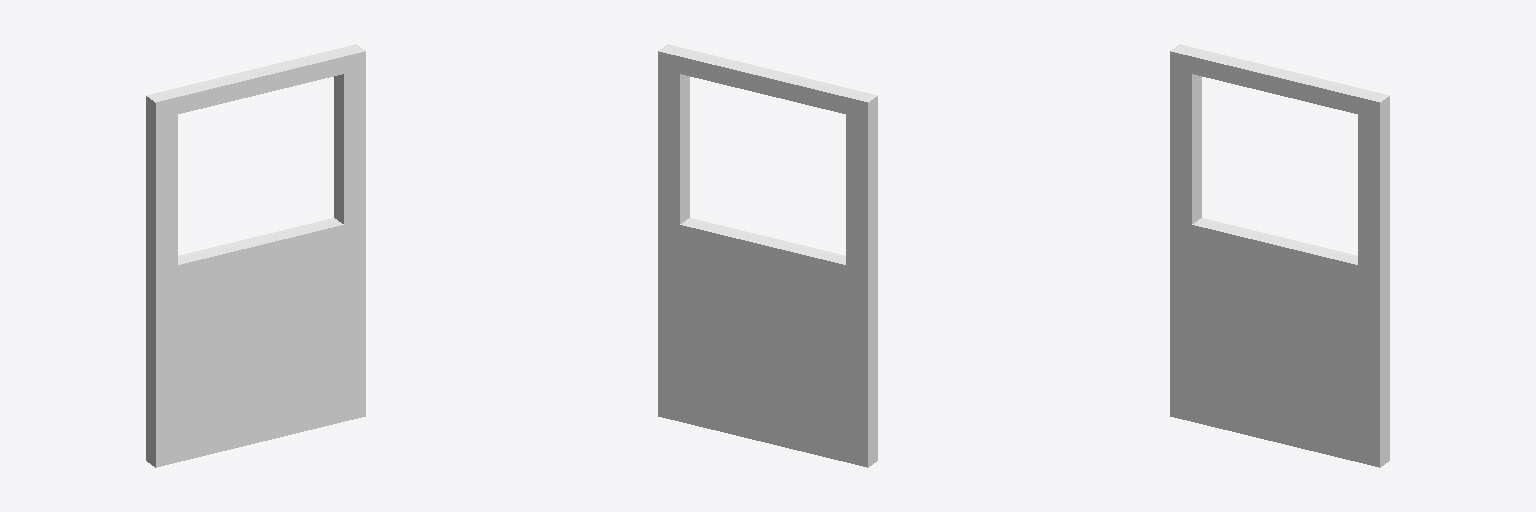
The model's file is Door1.obj.
The picture shows the model from 3 angles: view 1: azimuth 30°, elevation 25°; view 2: azimuth 150°, elevation 25°; view 3: azimuth 330°, elevation 25°; orthographic projection.
Visible parts, largest first — view 1: object 1; view 2: object 1; view 3: object 1.
Boxes of the visible parts, x1,y1,x2,y2 form: object 1: [146, 44, 365, 467]; object 1: [658, 44, 877, 467]; object 1: [1170, 44, 1389, 467].
Bounding box in the file's own units: 3.8 × 6.3 × 0.3.